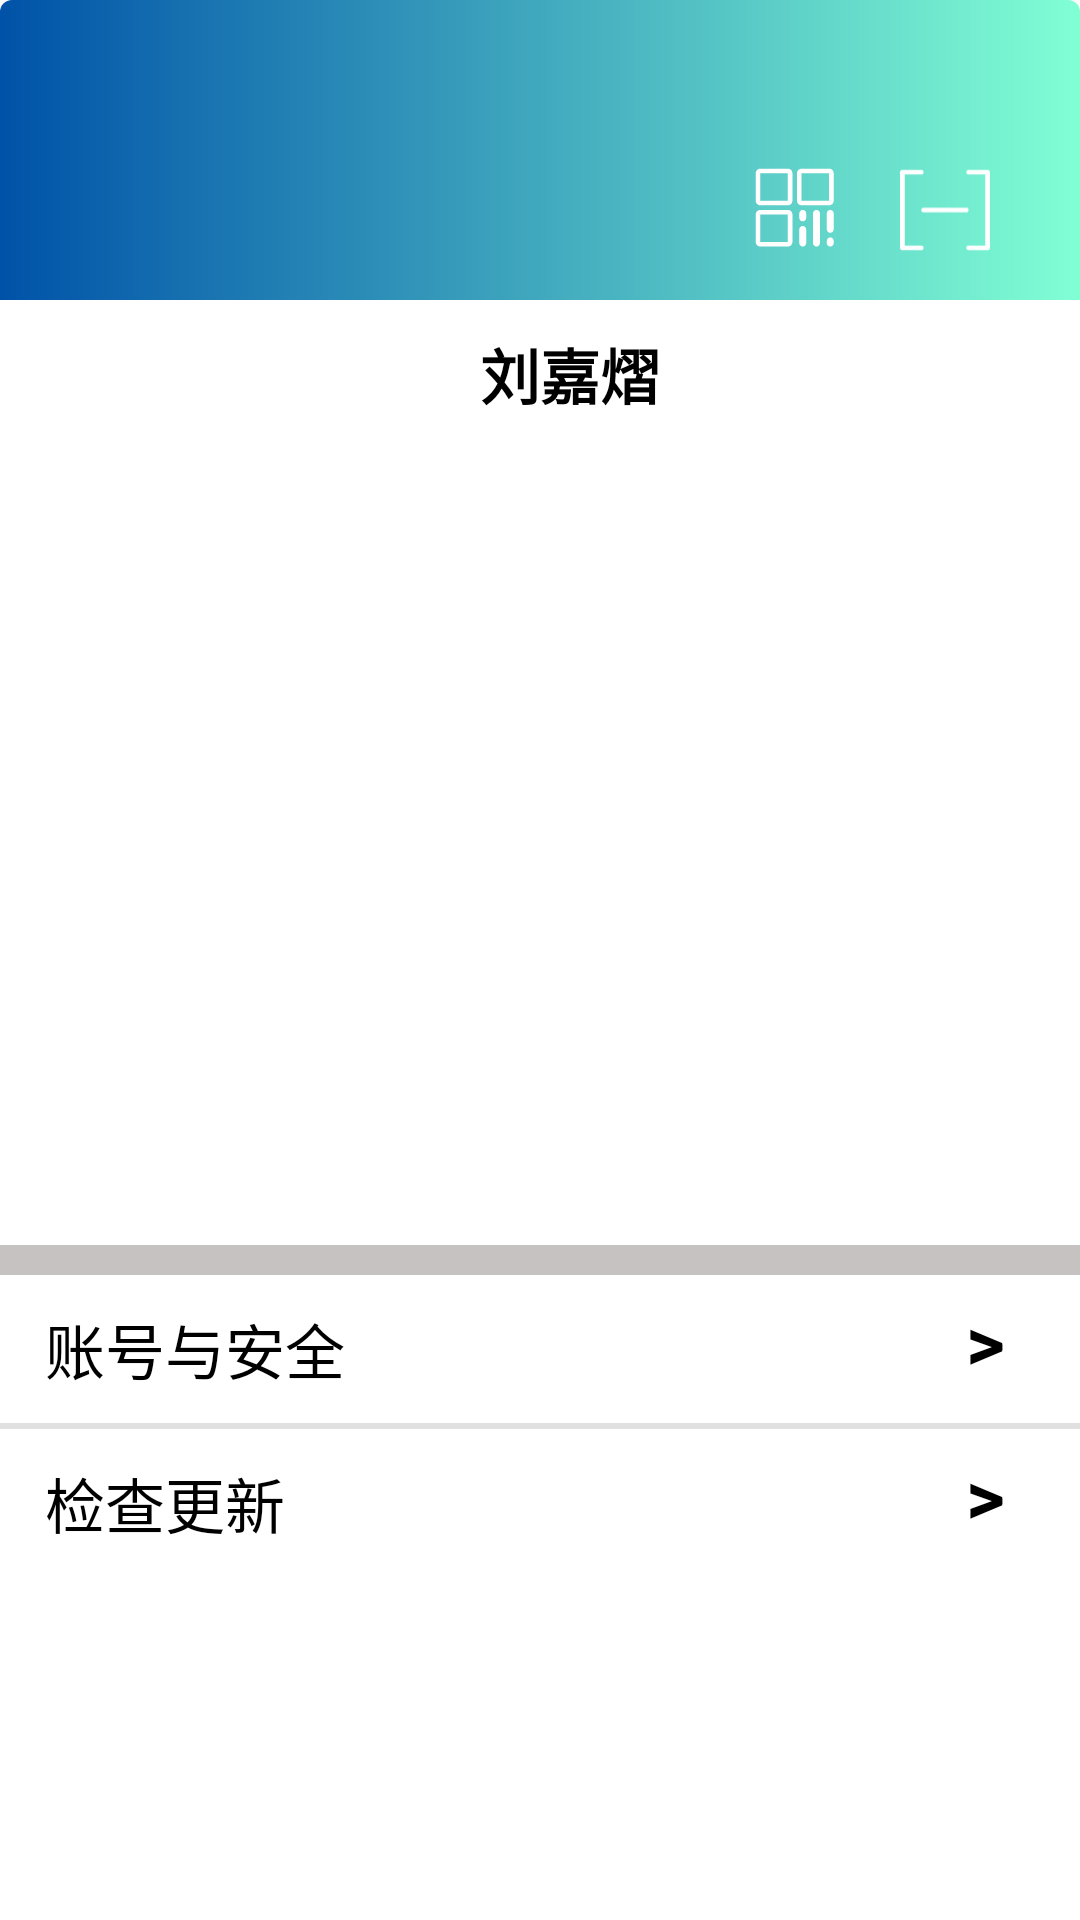

Named icons in this screenshot (1080px x 1920px) and their bounding boxes, rect(x1, y1, x2, y2):
me qrcode: rect(755, 168, 834, 247)
scan: rect(900, 169, 990, 251)
